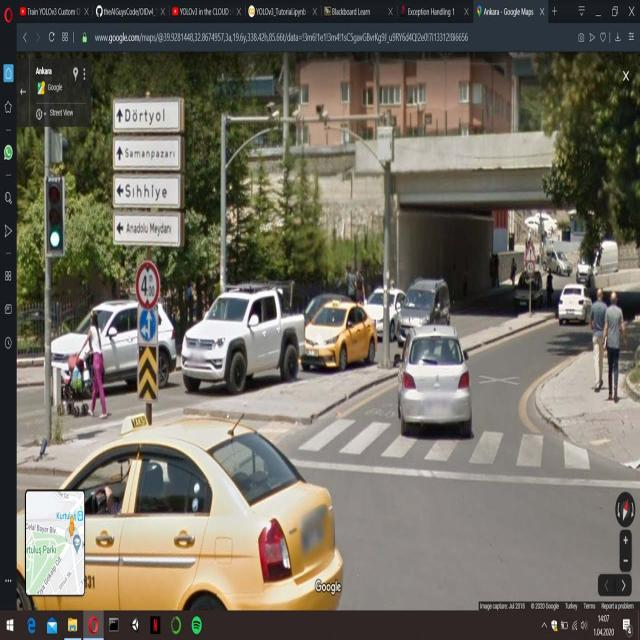ilerisol: (138, 311, 156, 340)
yesil: (48, 178, 64, 255)
